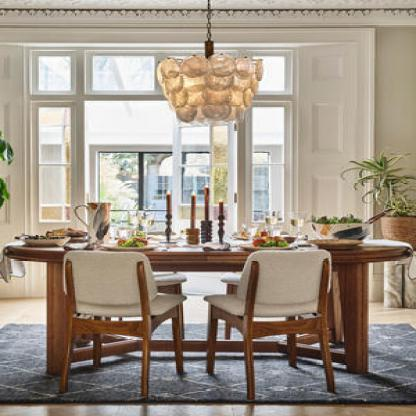chair: (200, 242, 346, 410), (59, 242, 191, 403), (212, 221, 295, 338), (145, 230, 186, 333)
door: (170, 119, 234, 301)
light: (149, 0, 268, 131)
table: (4, 235, 412, 378)
